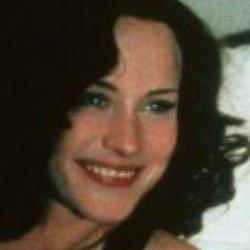face: (3, 3, 215, 233)
